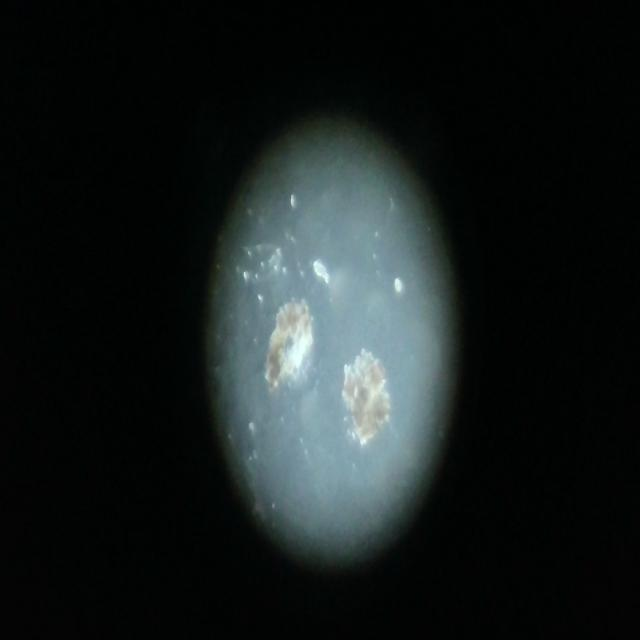alexandrium: (263, 303, 328, 387), (343, 349, 397, 445)
